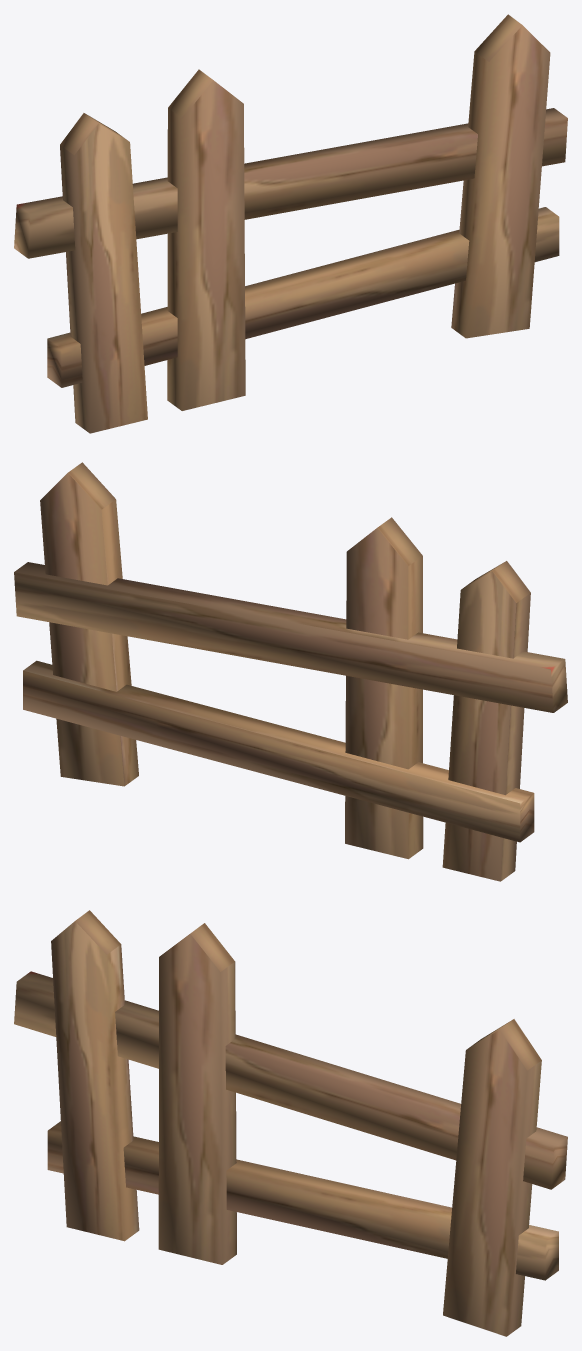
Rendered from Map_Choose_wooden01.FBX.
3 views of the same model, one above another, from view 1: azimuth 30°, elevation 25°; view 2: azimuth 150°, elevation 25°; view 3: azimuth 330°, elevation 25° (orthographic).
Visible parts, largest first — view 1: Map_Choose_wooden01; view 2: Map_Choose_wooden01; view 3: Map_Choose_wooden01.
Part boxes in pixels (box(x1,y1,x2,y2)): Map_Choose_wooden01: box(14, 14, 567, 433); Map_Choose_wooden01: box(14, 462, 567, 881); Map_Choose_wooden01: box(14, 910, 567, 1336).
Size of the model in its own units: 186 by 107 by 11.23.
Materials: 1 (1 with a texture image).
